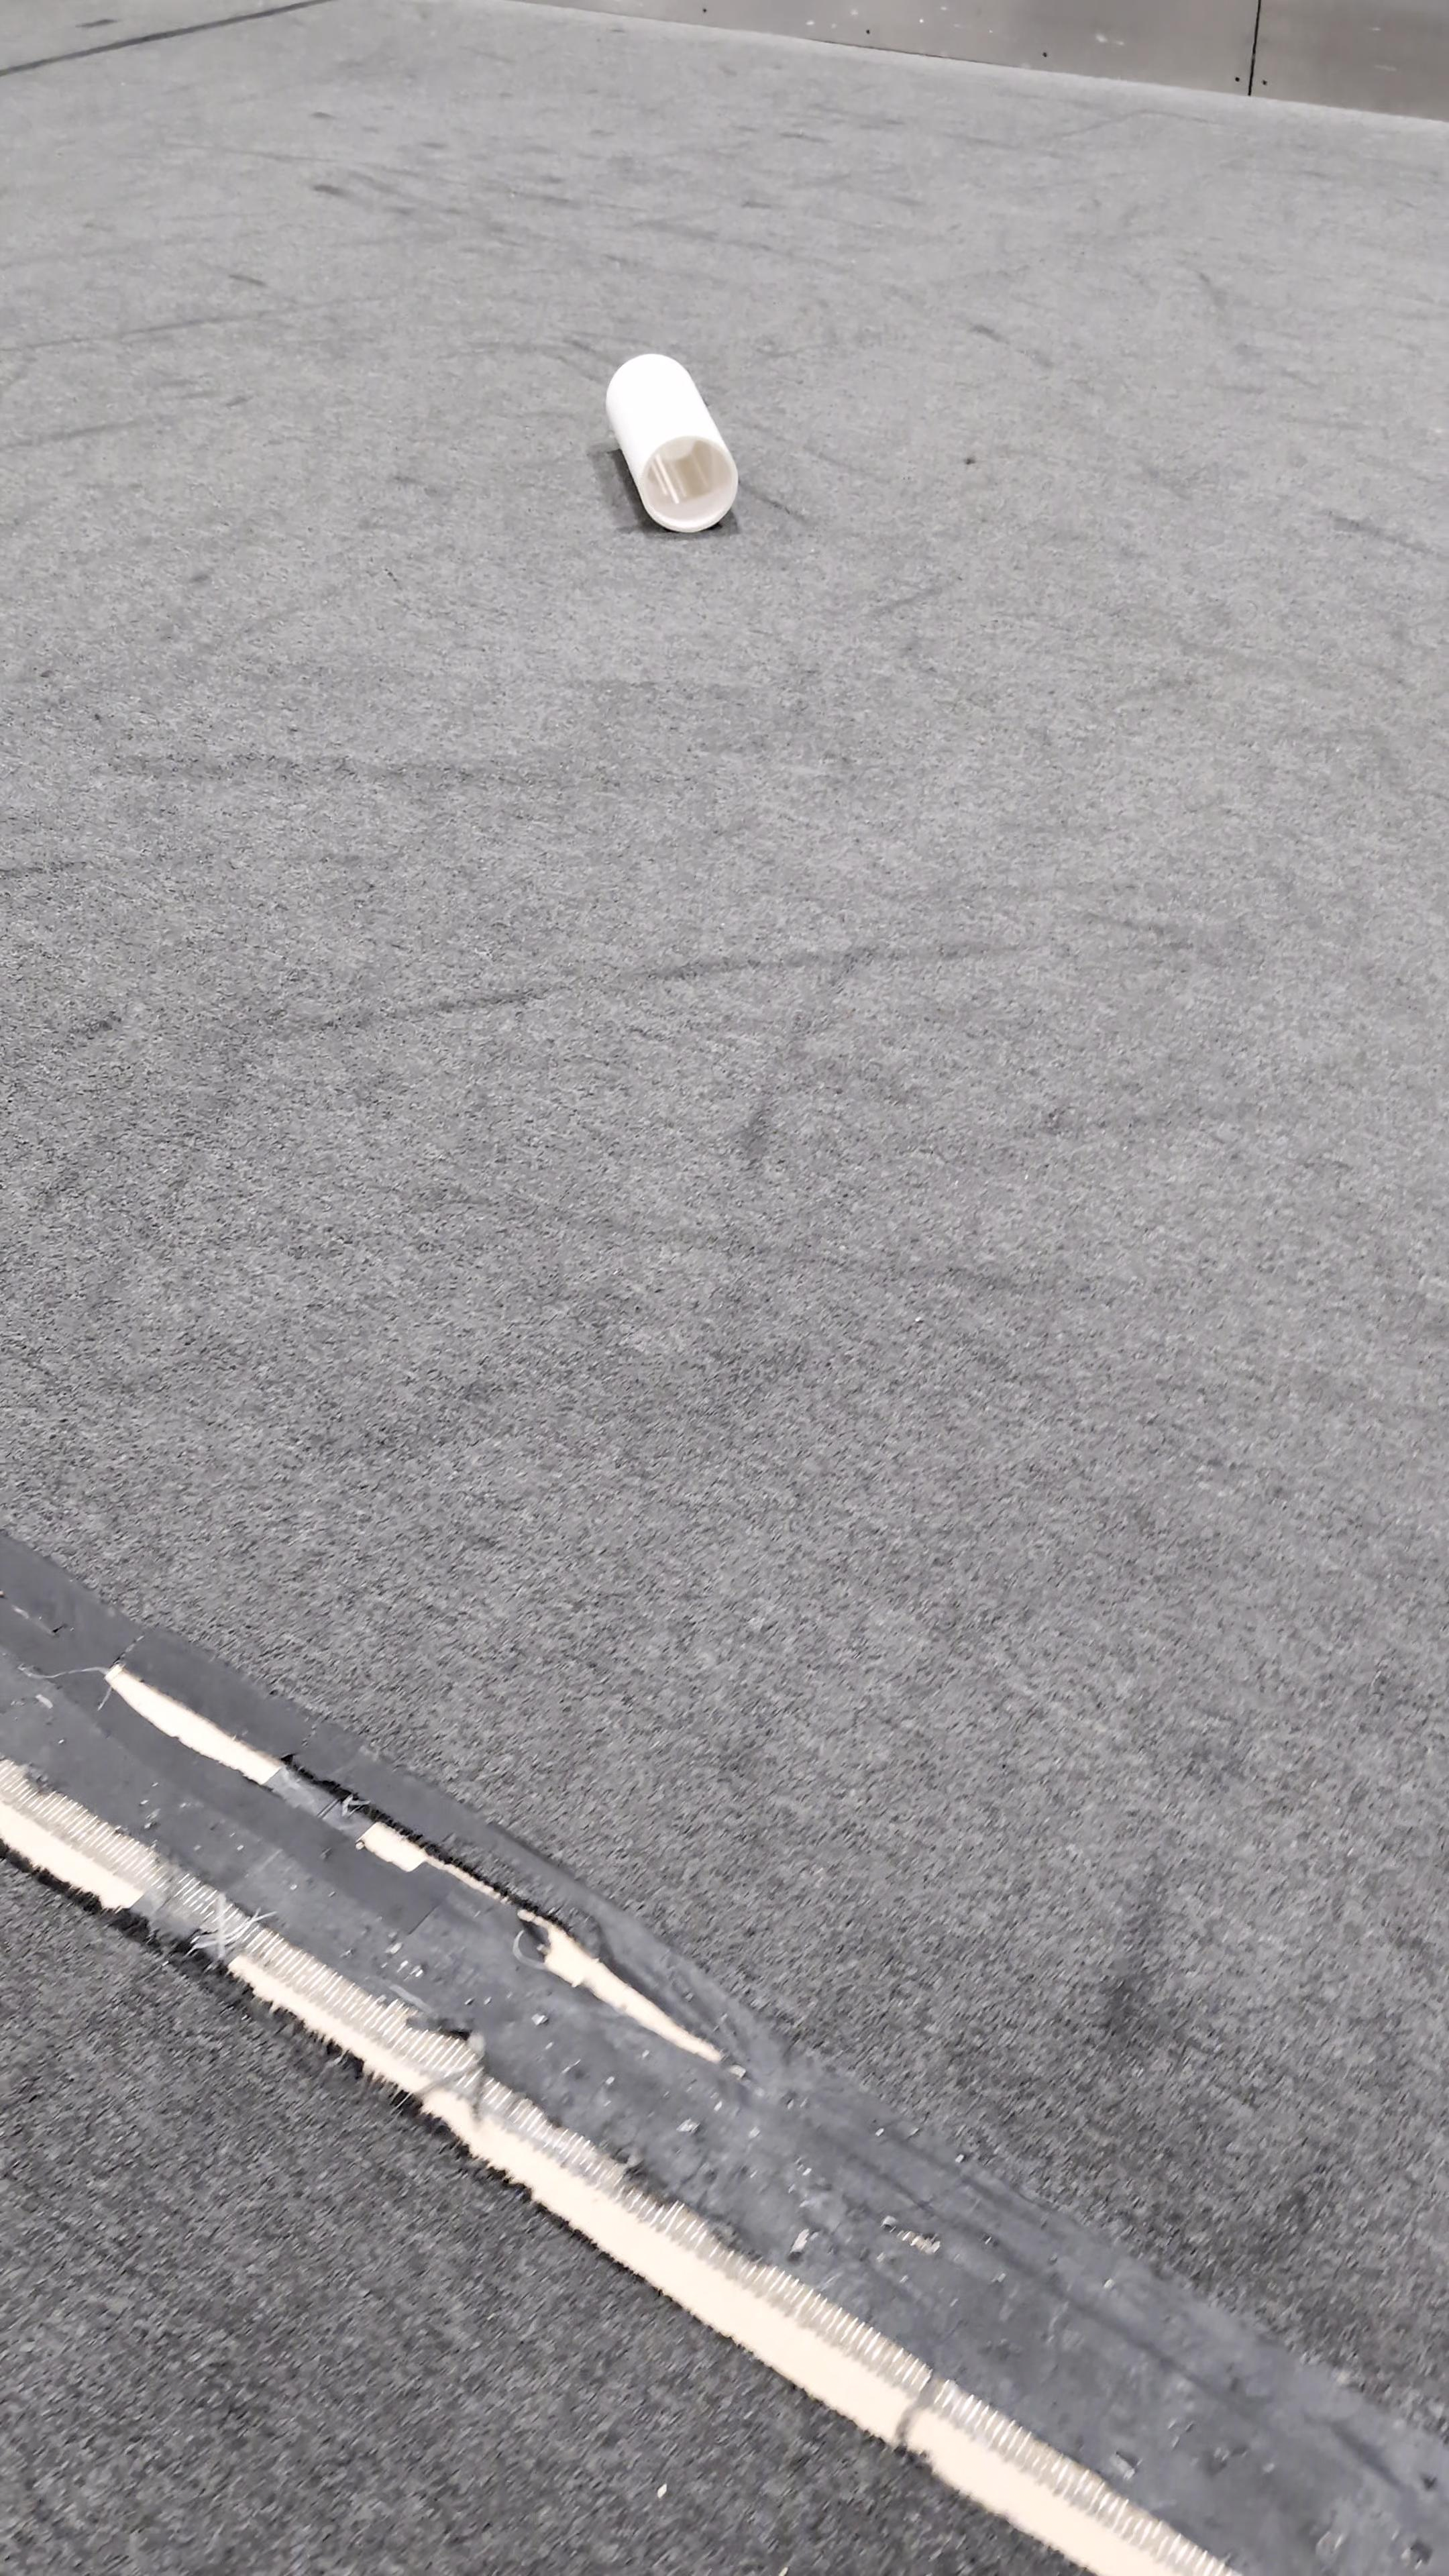coral: (607, 347, 743, 533)
